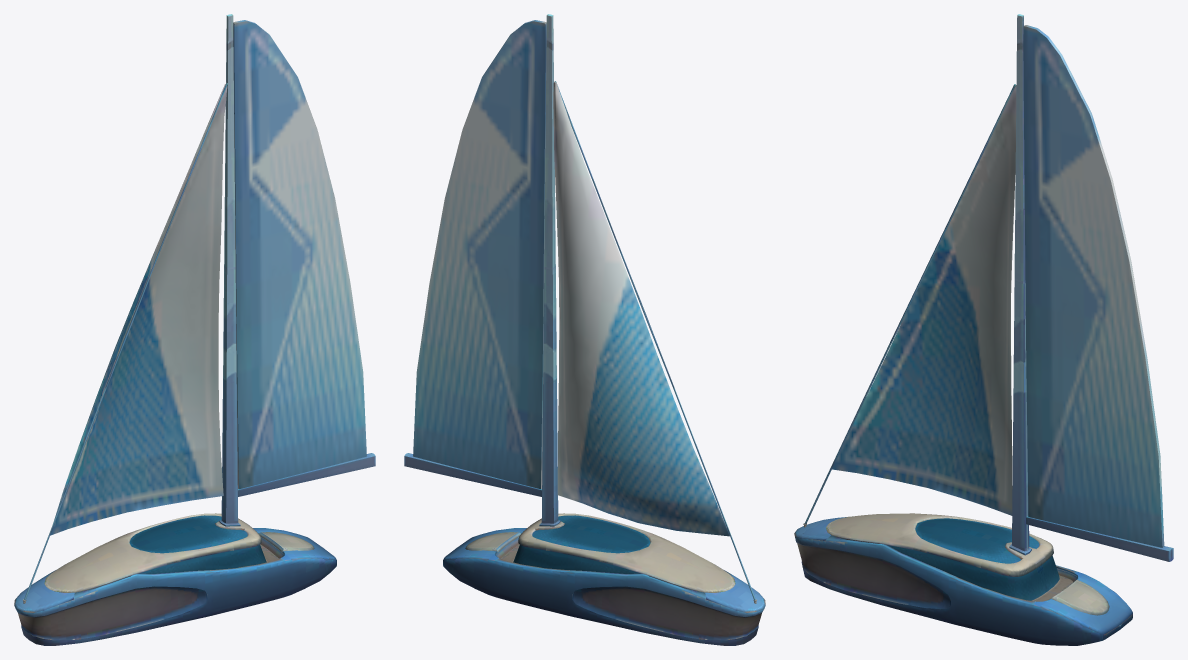
The model's file is pref_sm_beach_winter_sailboat02_lv3.fbx.
3 views of the same model, side by side, from view 1: azimuth 30°, elevation 25°; view 2: azimuth 150°, elevation 25°; view 3: azimuth 330°, elevation 25° (orthographic). The views are drawn at different scales.
Visible parts, largest first — view 1: pref_sm_beach_winter_sailboat02_lv3; view 2: pref_sm_beach_winter_sailboat02_lv3; view 3: pref_sm_beach_winter_sailboat02_lv3.
Part boxes in pixels (x1,y1,x2,y2): pref_sm_beach_winter_sailboat02_lv3: [14, 14, 375, 645]; pref_sm_beach_winter_sailboat02_lv3: [404, 14, 765, 645]; pref_sm_beach_winter_sailboat02_lv3: [794, 14, 1173, 645].
Size of the model in its own units: 4.6 by 7.09 by 0.986.
